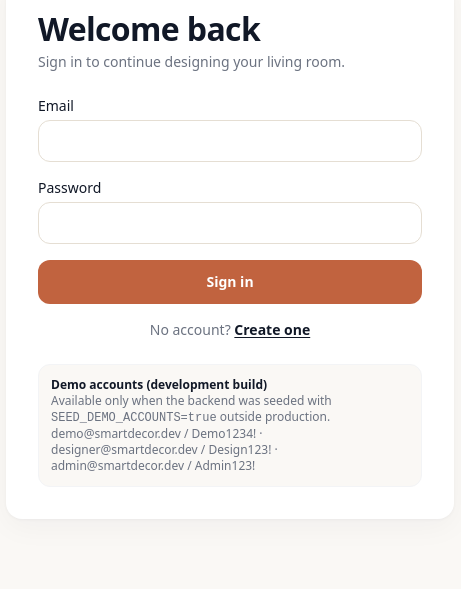
Test case: login failure path › keeps the user on /login after a failed attempt (no admin redirect)
This screenshot has width=461, height=589.
Type "demo@smartdecor.dev" into the field labelled "Email" at (230, 141), box [38,120,422,162]
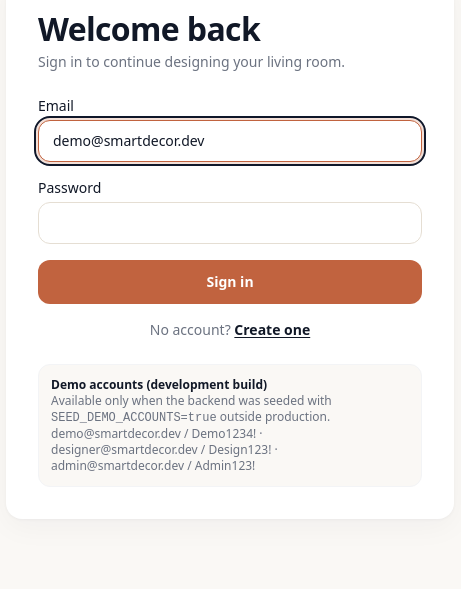
Type "WrongPass1!" into the password field labelled "Password" at (230, 223), box [38,202,422,244]
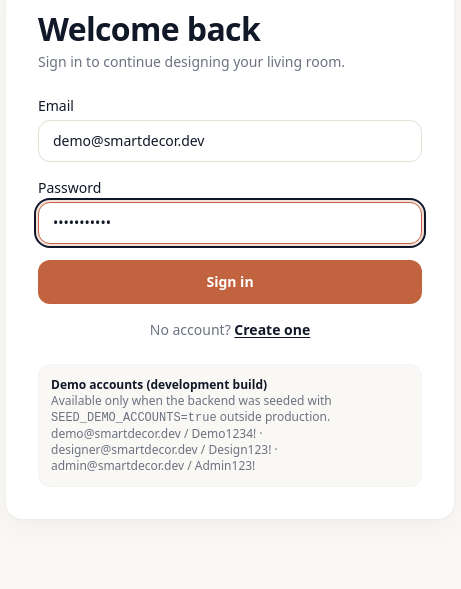
Click the button "Sign in" at (230, 282), box [38,260,422,304]
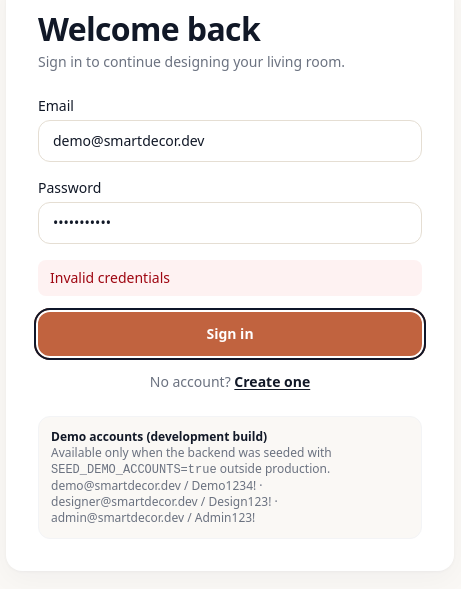
Expected: the button "Sign in" is shown, [38,312,422,356]
Result: the text "Invalid credentials" is shown at [38,260,422,296]
